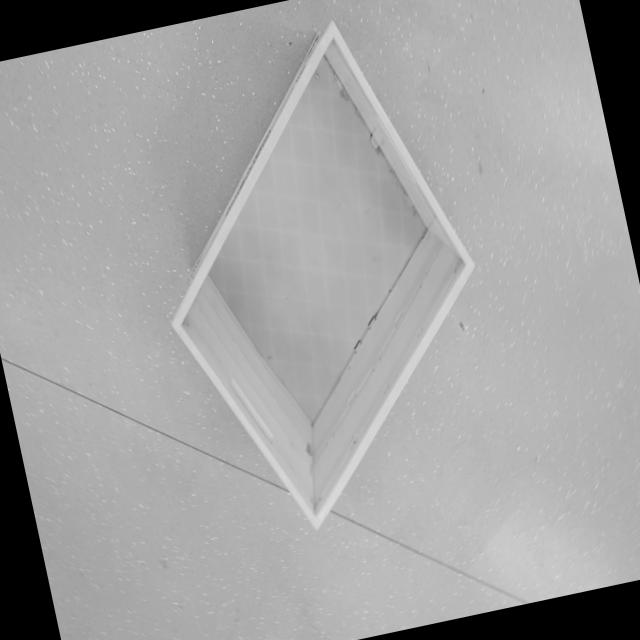box: (106, 0, 527, 563)
